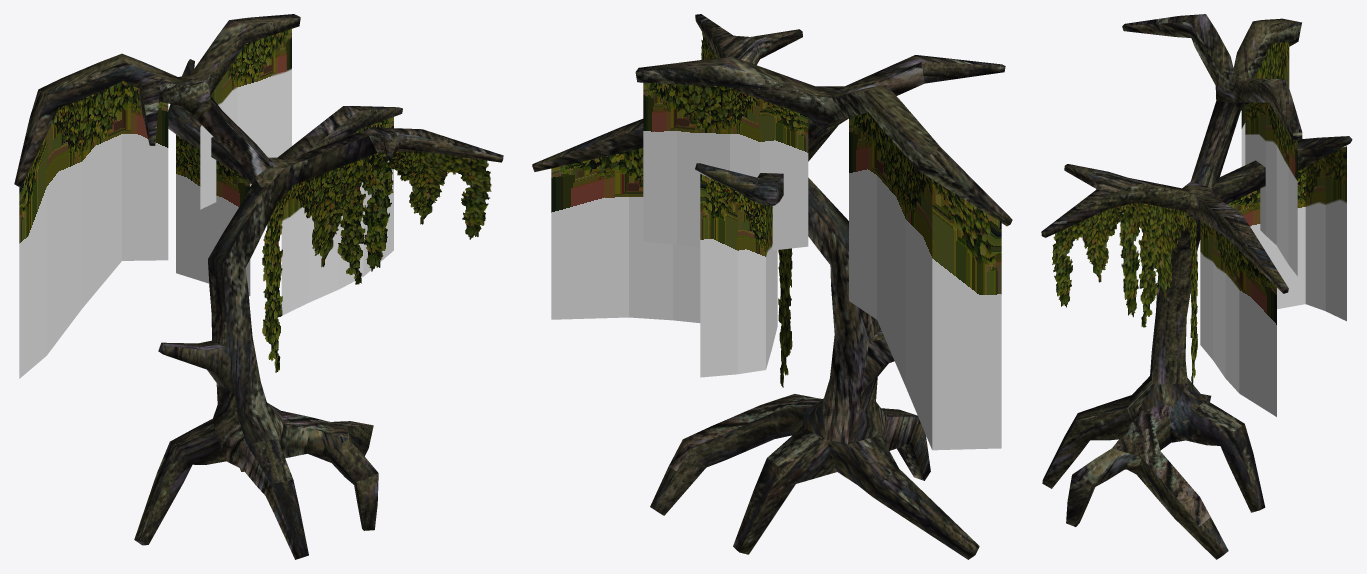
Rendered from tree_1.glb.
3 views of the same model, side by side, from view 1: azimuth 30°, elevation 25°; view 2: azimuth 150°, elevation 25°; view 3: azimuth 270°, elevation 25° (orthographic). The views are drawn at different scales.
Parts seen in each view (by area): view 1: tree_1; view 2: tree_1; view 3: tree_1.
Boxes of the visible parts, x1=… form: tree_1: x1=14, y1=14, x2=503, y2=559; tree_1: x1=532, y1=14, x2=1012, y2=559; tree_1: x1=1041, y1=14, x2=1352, y2=559.
Size of the model in its own units: 5.89 by 6.23 by 4.
3 materials, 3 textured.
